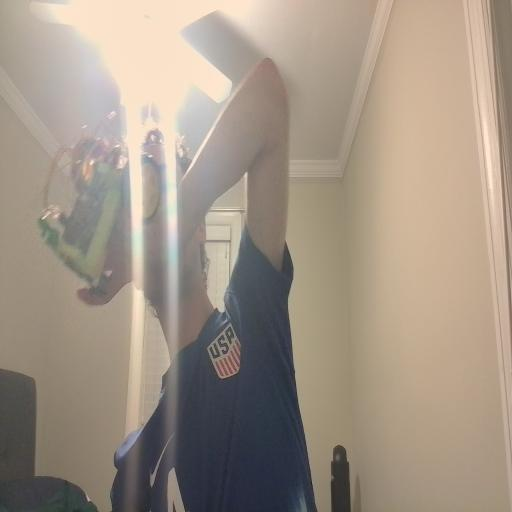green LEGO minifig: (36, 216, 60, 252)
